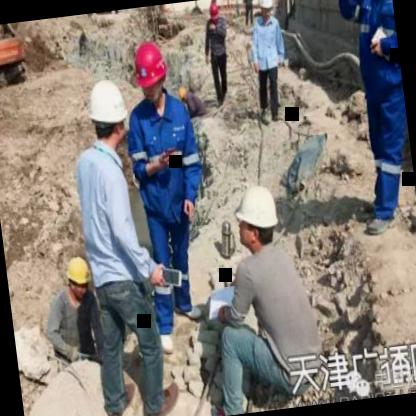helmet: (231, 178, 282, 255), (82, 75, 132, 151), (128, 35, 173, 107), (62, 254, 93, 300), (203, 0, 221, 25), (257, 0, 274, 21)
